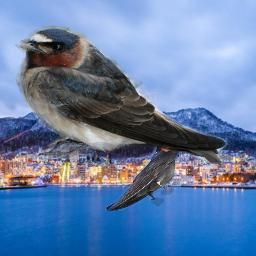Swallow: (12, 25, 229, 168), (105, 138, 188, 211)
